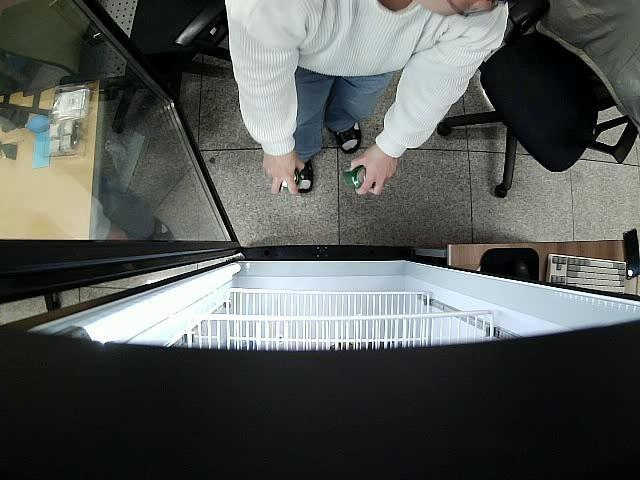12_chilsungCider: (340, 166, 370, 191), (281, 172, 298, 190)
